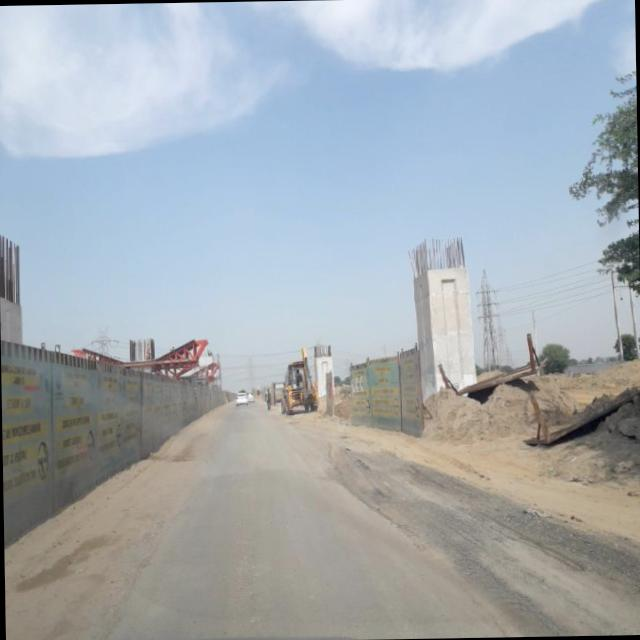pothole: (476, 511, 586, 572)
